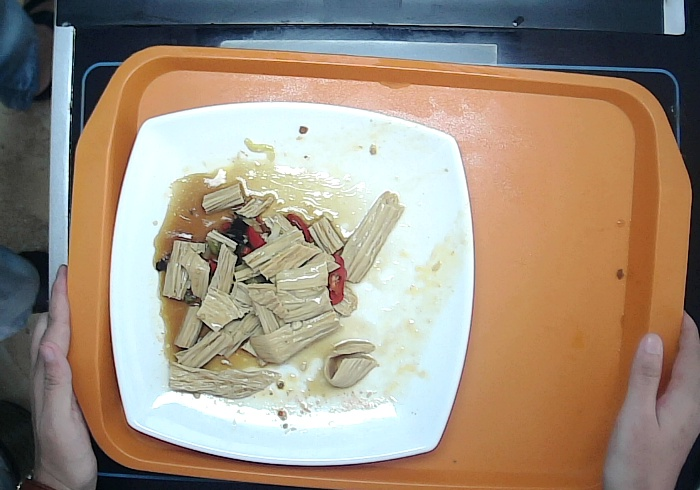ZNLD-Bai_Fang_Pan: (105, 102, 475, 468)
